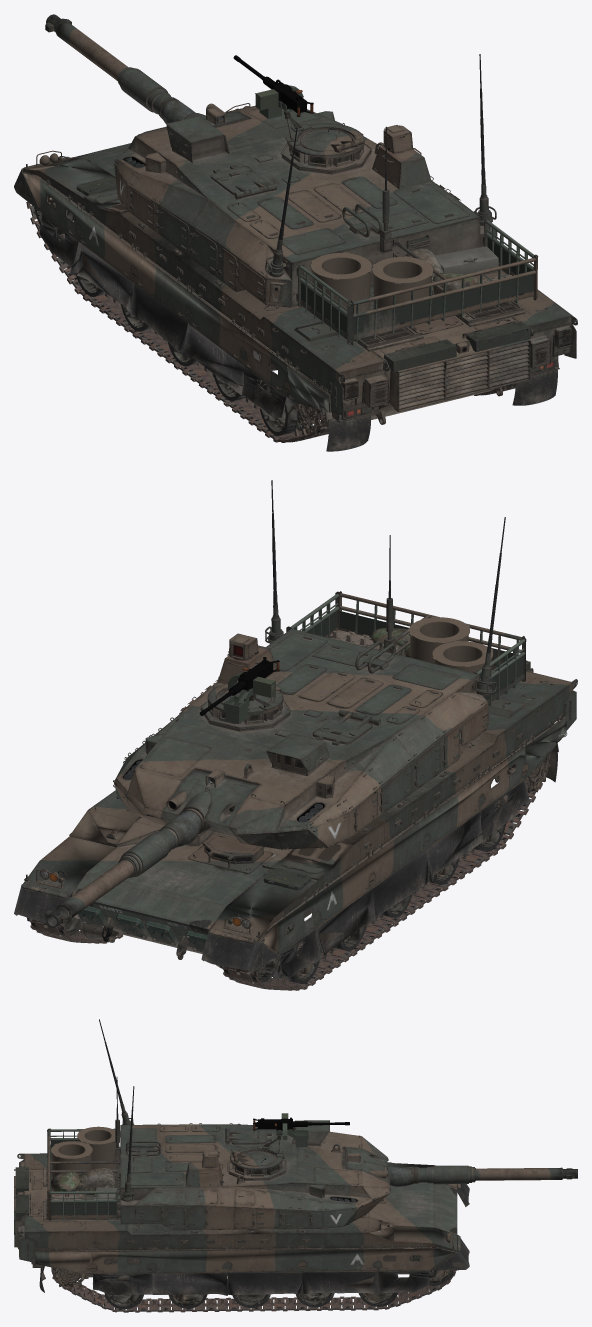
Rendered from type10.glb.
3 renders of one model, top to bottom at view 1: azimuth 30°, elevation 25°; view 2: azimuth 150°, elevation 25°; view 3: azimuth 270°, elevation 25°, orthographic. The views are drawn at different scales.
Visible parts, largest first — view 1: V_type10__Turret_2, V_type10__Body_2, V_type10__Turret_1, V_type10__Body_3, V_type10__Body_1, V_type10__Body_4, V_type10__Gun_1; view 2: V_type10__Turret_2, V_type10__Body_2, V_type10__Turret_1, V_type10__Body_3, V_type10__Body_1, V_type10__Body_4, V_type10__Gun_1; view 3: V_type10__Body_2, V_type10__Turret_2, V_type10__Turret_1, V_type10__Body_1, V_type10__Body_3, V_type10__Gun_1, V_type10__Body_4.
Boxes of the visible parts, x1,y1,x2,y2 form: V_type10__Turret_2: (113, 99, 535, 317); V_type10__Body_2: (22, 157, 577, 435); V_type10__Turret_1: (124, 54, 538, 345); V_type10__Body_3: (14, 103, 572, 451); V_type10__Body_1: (23, 172, 515, 442); V_type10__Body_4: (76, 177, 530, 372); V_type10__Gun_1: (45, 14, 178, 119); V_type10__Turret_2: (113, 535, 521, 849); V_type10__Body_2: (23, 668, 577, 983); V_type10__Turret_1: (123, 480, 526, 831); V_type10__Body_3: (14, 700, 571, 972); V_type10__Body_1: (26, 739, 550, 990); V_type10__Body_4: (78, 660, 530, 952); V_type10__Gun_1: (45, 824, 182, 927); V_type10__Body_2: (17, 1153, 457, 1309); V_type10__Turret_2: (47, 1077, 414, 1230); V_type10__Turret_1: (47, 1019, 356, 1228); V_type10__Body_1: (51, 1247, 456, 1312); V_type10__Body_3: (14, 1161, 469, 1292); V_type10__Gun_1: (414, 1165, 577, 1184); V_type10__Body_4: (14, 1162, 393, 1226).
Size of the model in its own units: 9.67 by 11.75 by 26.86.
4 materials, 4 textured.
